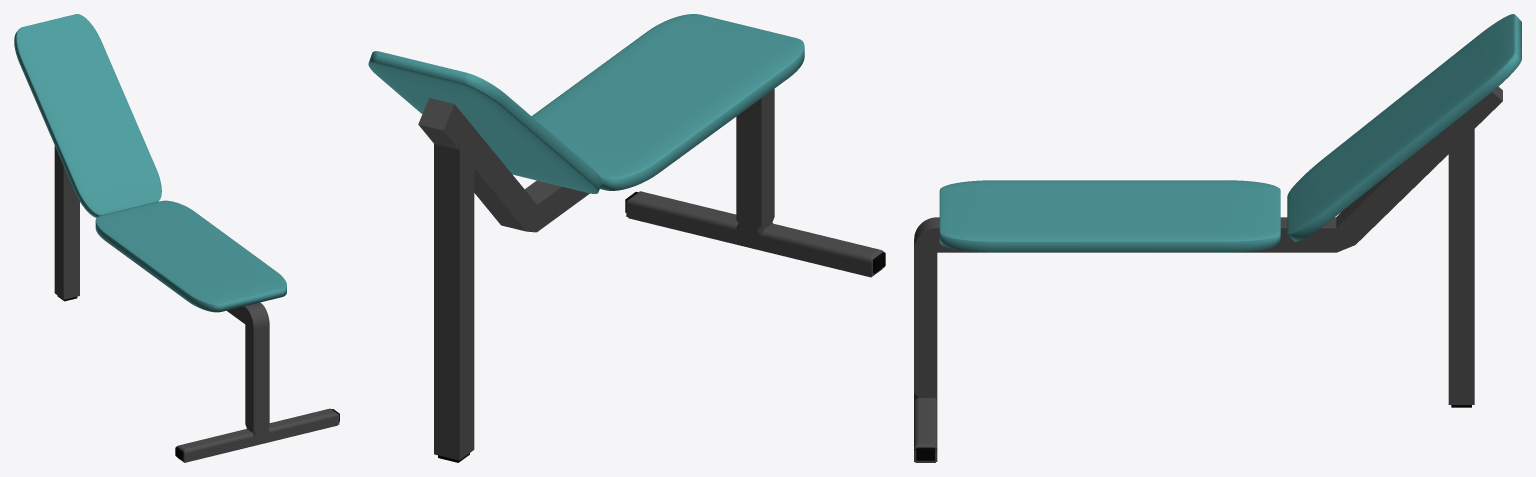
Rendered from benkKopi.fbx.
The picture shows the model from 3 angles, left to right: view 1: azimuth 30°, elevation 25°; view 2: azimuth 150°, elevation 25°; view 3: azimuth 270°, elevation 25°; orthographic projection. The views are drawn at different scales.
Visible parts, largest first — view 1: Cube.004, Cube.003, Cube; view 2: Cube, Cube.003, Cube.004; view 3: Cube.003, Cube, Cube.004.
Part boxes in pixels (bbox=[...]): Cube.004: bbox=[14, 14, 161, 217]; Cube.003: bbox=[95, 200, 286, 312]; Cube: bbox=[54, 145, 339, 462]; Cube: bbox=[418, 89, 885, 462]; Cube.003: bbox=[531, 14, 804, 190]; Cube.004: bbox=[368, 51, 602, 193]; Cube.003: bbox=[939, 180, 1280, 252]; Cube: bbox=[914, 87, 1502, 462]; Cube.004: bbox=[1287, 14, 1521, 241].
Size of the model in its own units: 654 by 1054 by 1541.
